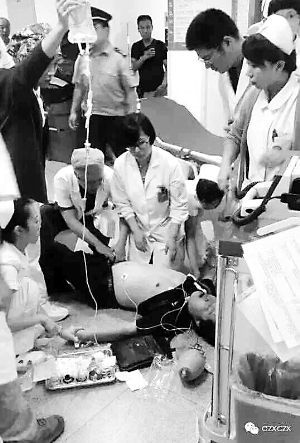10+: (1, 1, 297, 441)
down: (19, 211, 240, 368)
